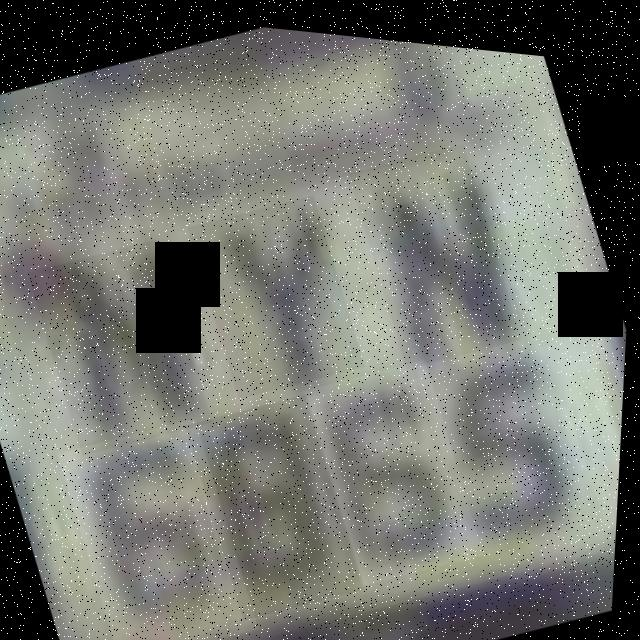5: (415, 301, 615, 544)
6: (54, 403, 273, 640), (300, 341, 497, 587)
8: (182, 378, 379, 624)
N: (23, 225, 224, 464), (342, 125, 533, 369)
Y: (183, 178, 375, 403)
